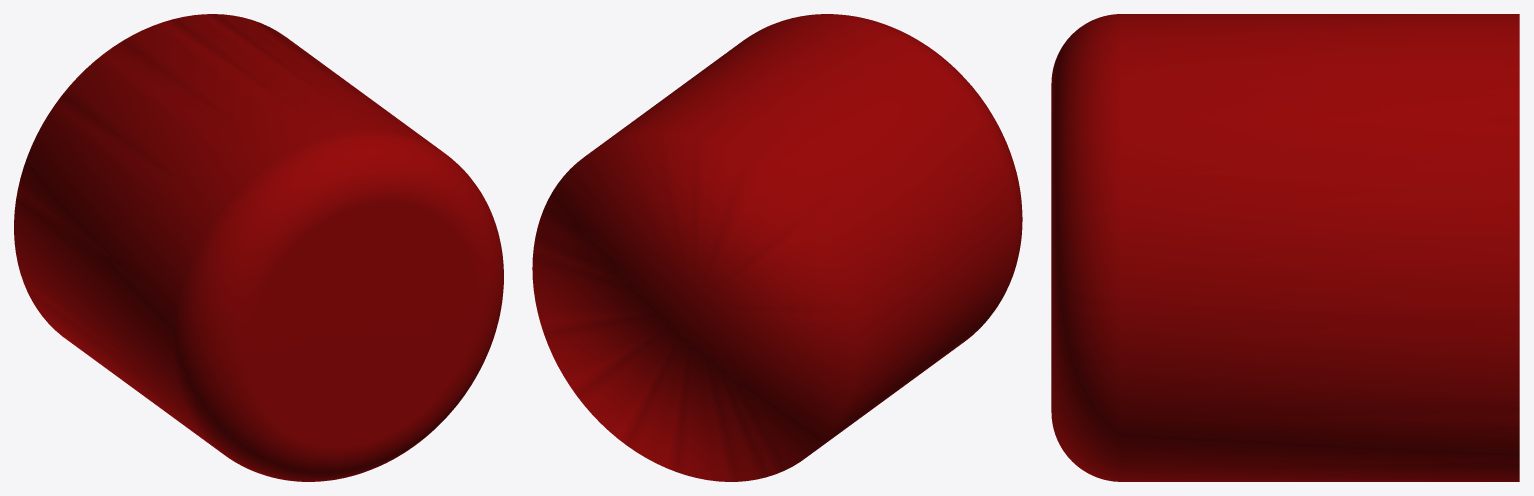
File: RPPBase.obj
3 views of the same model, side by side, from view 1: azimuth 30°, elevation 25°; view 2: azimuth 150°, elevation 25°; view 3: azimuth 270°, elevation 25° (orthographic). The views are drawn at different scales.
Size of the model in its own units: 200 by 200 by 200.
